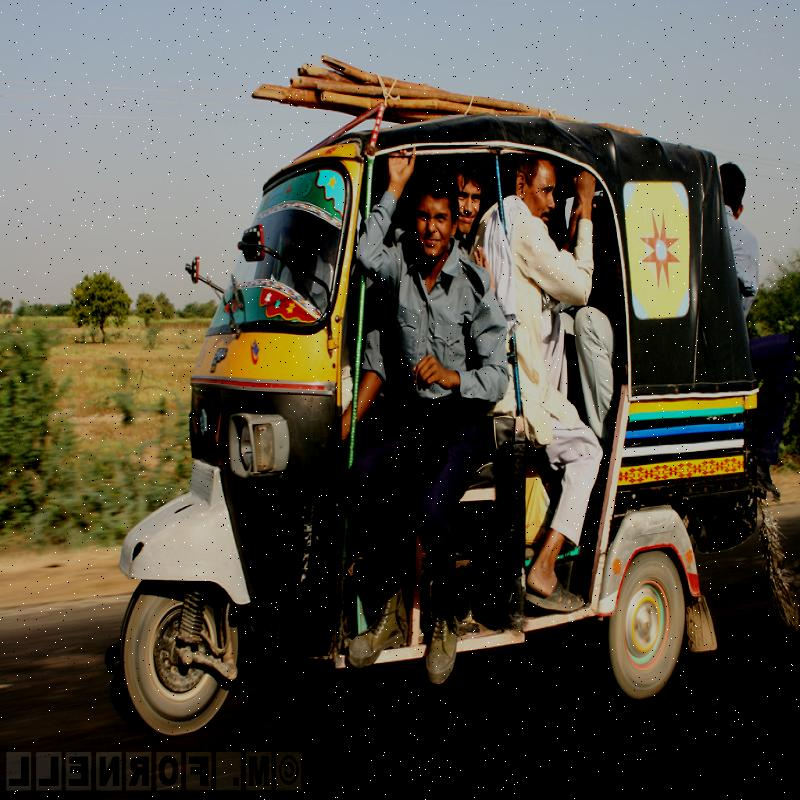bike: (103, 111, 736, 723)
